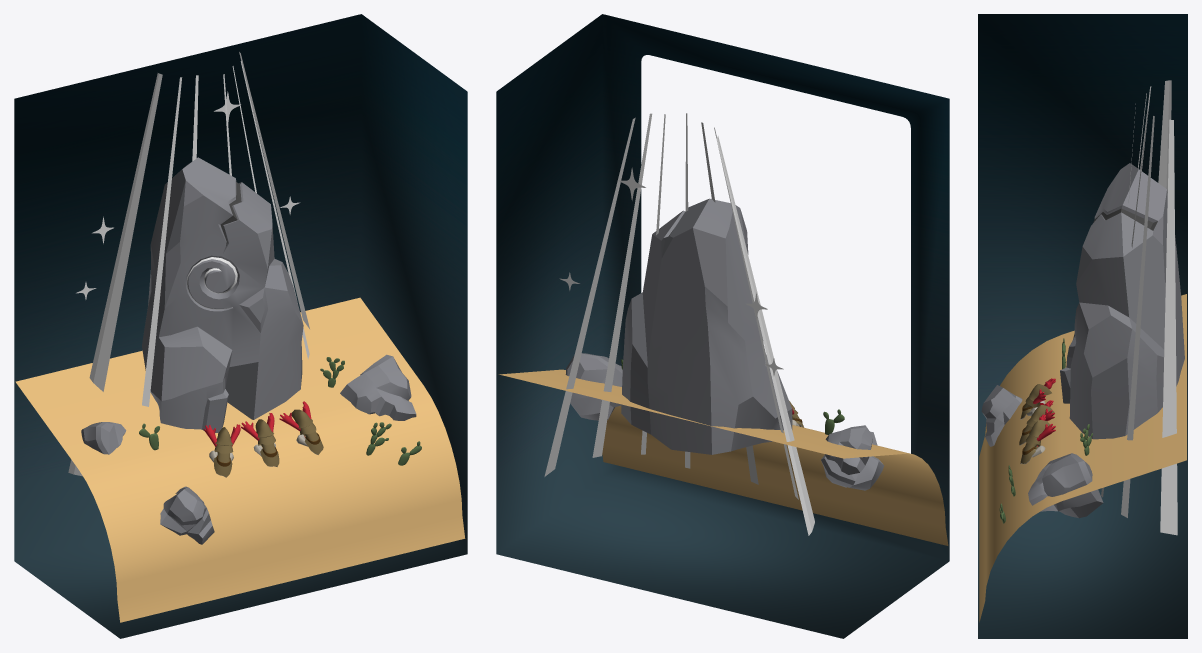
The model's file is 15_Cult.fbx.
3 views of the same model, side by side, from view 1: azimuth 30°, elevation 25°; view 2: azimuth 150°, elevation 25°; view 3: azimuth 270°, elevation 25° (orthographic).
Visible parts, largest first — view 1: 15_Cult_bg, 15_Cult; view 2: 15_Cult_bg, 15_Cult; view 3: 15_Cult_bg, 15_Cult.
Part boxes in pixels (x1,y1,x2,y2): 15_Cult_bg: (14,14,467,638); 15_Cult: (15,52,465,622); 15_Cult_bg: (496,14,949,638); 15_Cult: (499,113,948,545); 15_Cult_bg: (978,14,1187,638); 15_Cult: (979,80,1186,622).
Bounding box in the file's own units: 276 × 351 × 146.
